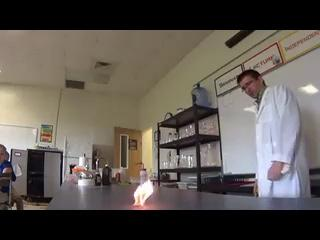Fire: (130, 181, 155, 206)
